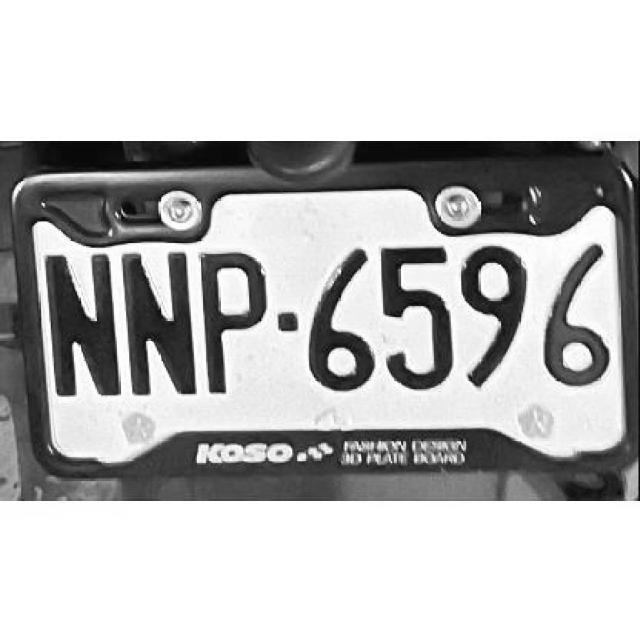-: (275, 308, 297, 334)
5: (378, 238, 452, 394)
6: (538, 231, 614, 395), (303, 242, 375, 396)
9: (454, 237, 532, 392)
N: (118, 246, 196, 399), (42, 248, 118, 397)
P: (198, 250, 270, 392)
